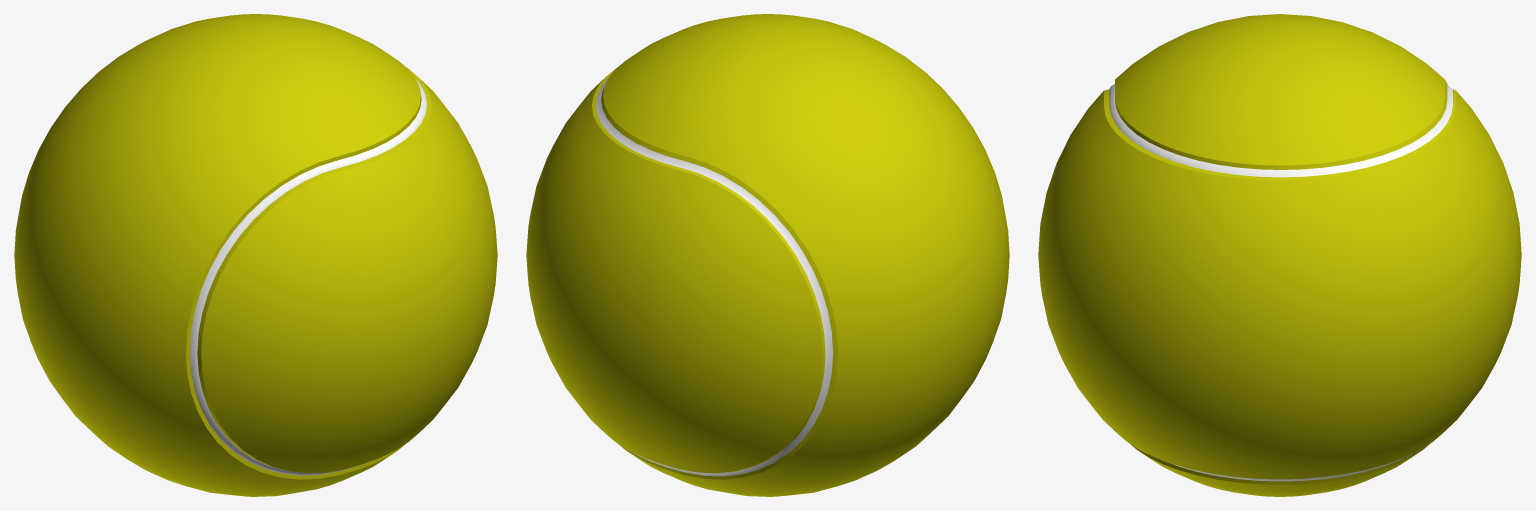
The model's file is tennisball.dae.
The picture shows the model from 3 angles, left to right: view 1: azimuth 30°, elevation 25°; view 2: azimuth 150°, elevation 25°; view 3: azimuth 270°, elevation 25°; orthographic projection.
Visible parts, largest first — view 1: SketchUp (×3); view 2: SketchUp (×3); view 3: SketchUp (×3).
Boxes of the visible parts, left/top/right/bottom form: SketchUp (×3): left=14, top=14, right=497, bottom=496; SketchUp (×3): left=526, top=14, right=1009, bottom=496; SketchUp (×3): left=1038, top=14, right=1521, bottom=496.
Bounding box in the file's own units: 84.63 × 84.63 × 84.63.
